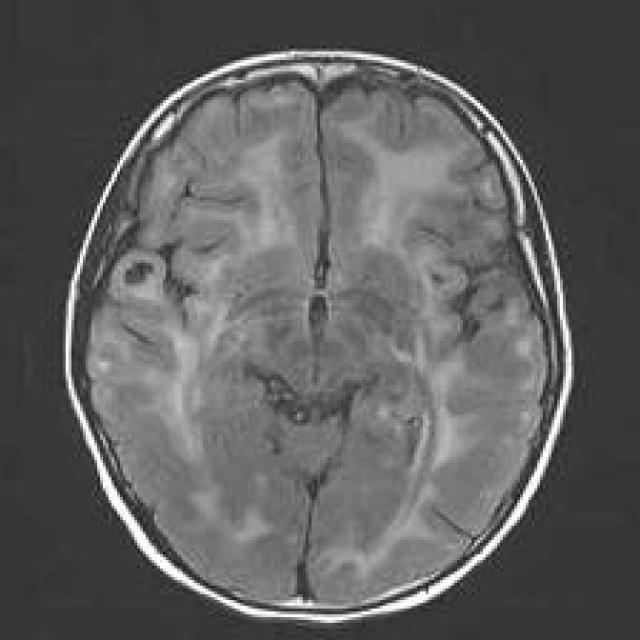no_tumor: (57, 37, 583, 640)
